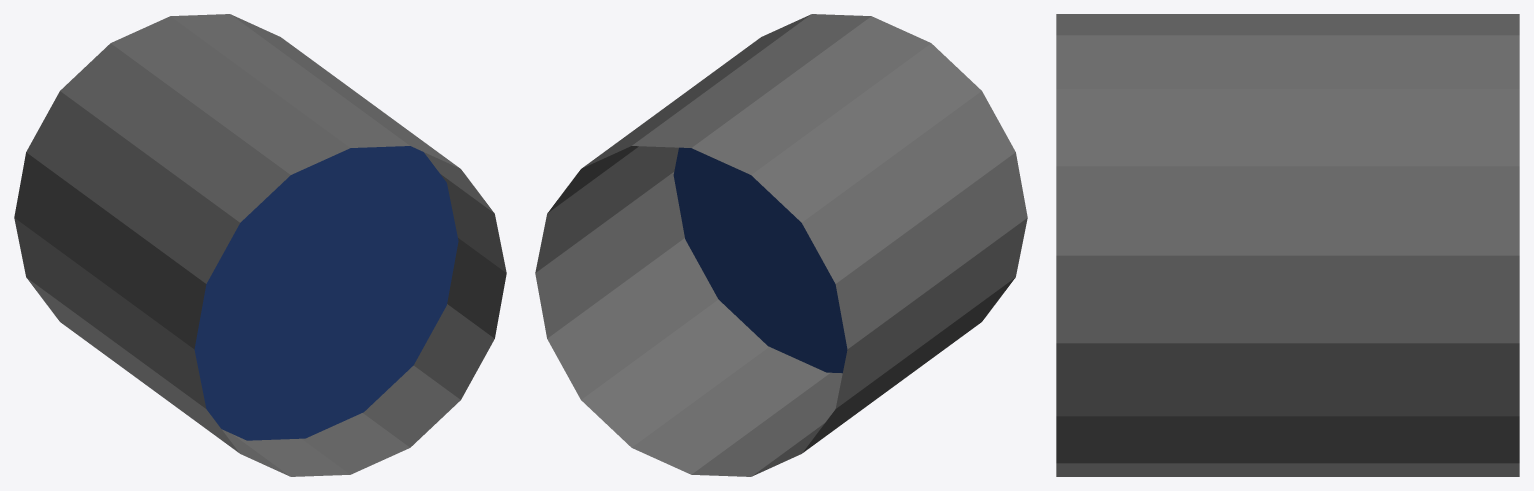
File: pozo_doom.obj
The picture shows the model from 3 angles, left to right: view 1: azimuth 30°, elevation 25°; view 2: azimuth 150°, elevation 25°; view 3: azimuth 270°, elevation 25°; orthographic projection. The views are drawn at different scales.
Visible parts, largest first — view 1: Pozo; view 2: Pozo; view 3: Pozo.
Boxes of the visible parts, x1,y1,x2,y2 form: Pozo: (14, 14, 506, 476); Pozo: (535, 14, 1027, 476); Pozo: (1056, 14, 1519, 476).
Bounding box in the file's own units: 2 × 2 × 2.
Materials: 2 (2 with a texture image).
